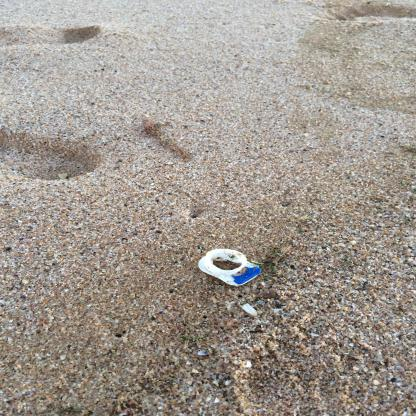plastik: (198, 248, 261, 286)
